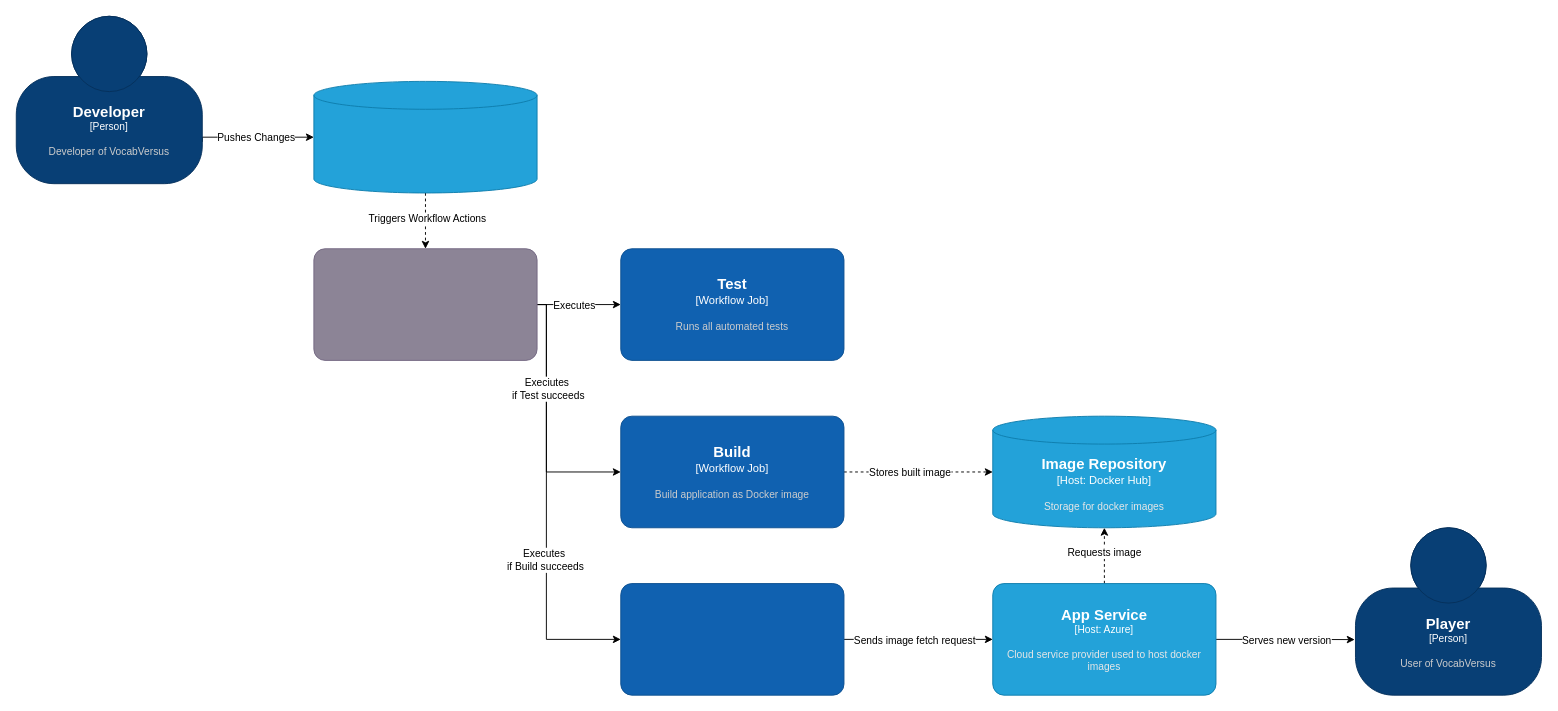
Image size: 1558x711. Some labels were removed from this diagram. The centre of each missing label's shape, as x and y in pixels:
Container name [GitHub: Git Version Management] GitHub Repository: pixel 425 136
Deploy [Workflow Job] Deploys docker image to Azure App Service: pixel 732 639
GitHub Runner [Virtual Environment] Executes Github Actions: pixel 425 304
